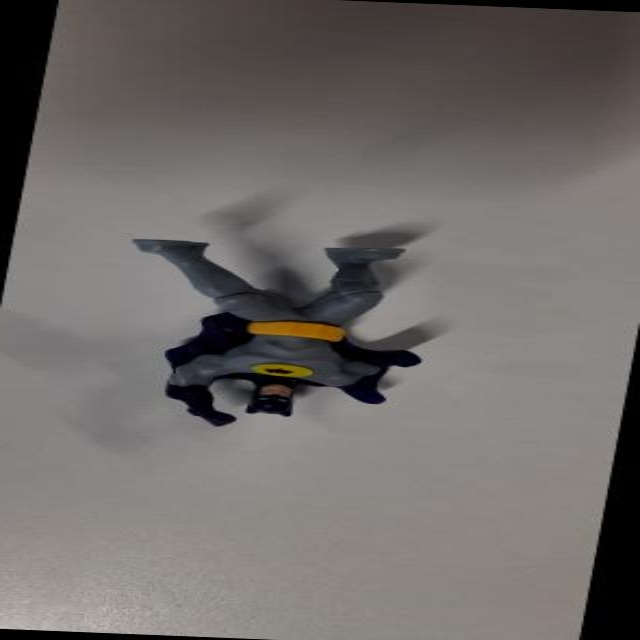Batman: (87, 215, 464, 442)
